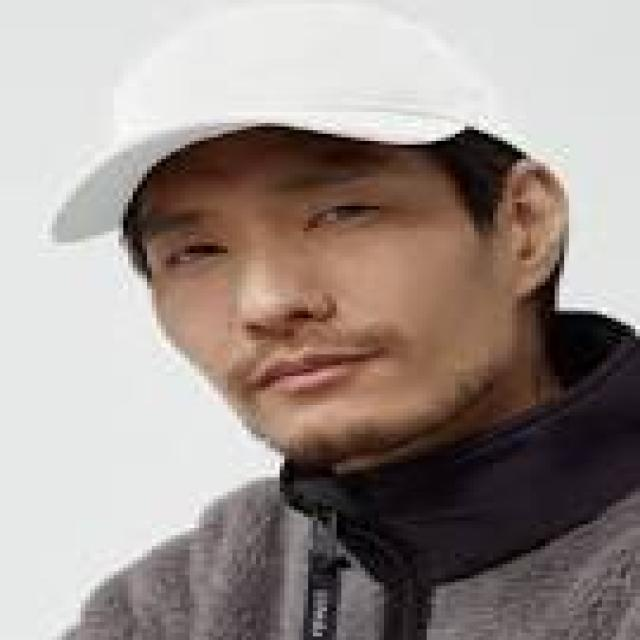3_gorra: (44, 0, 526, 246)
